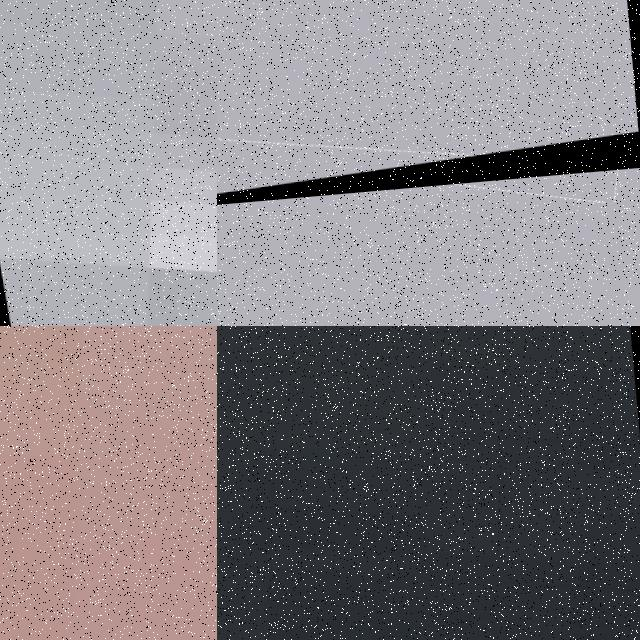drone: (217, 326, 640, 640), (217, 0, 640, 223), (0, 0, 217, 326), (0, 326, 217, 640)
